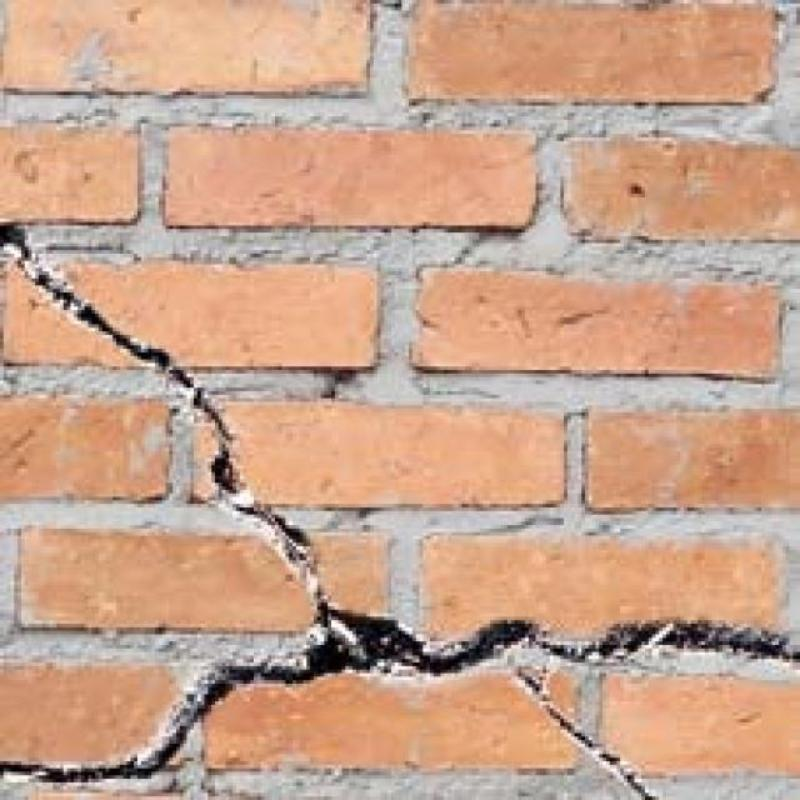pothole: (0, 227, 800, 784), (517, 669, 656, 800)
